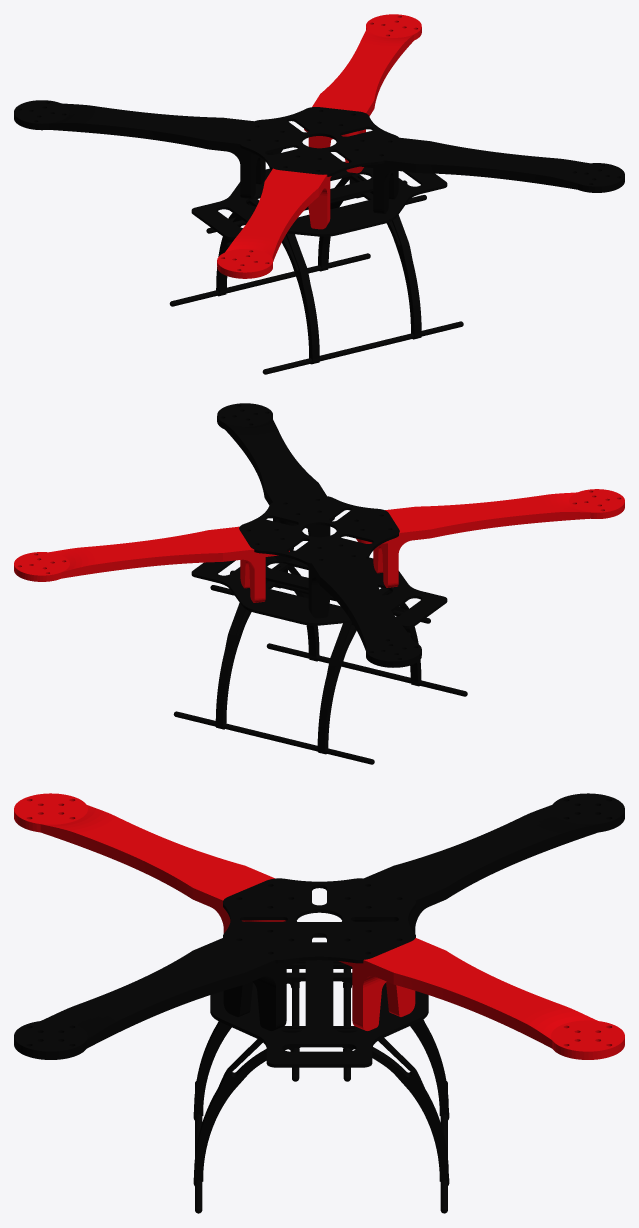
File: drone_base.dae
3 renders of one model, top to bottom at view 1: azimuth 30°, elevation 25°; view 2: azimuth 150°, elevation 25°; view 3: azimuth 270°, elevation 25°, orthographic. The views are drawn at different scales.
Parts seen in each view (by area): view 1: arm_fr, arm_bl, Top, Landing_Gear, arm_fl, bottom, armx_br; view 2: armx_br, arm_fl, Top, Landing_Gear, arm_bl, bottom, arm_fr; view 3: arm_fr, armx_br, Top, arm_bl, arm_fl, Landing_Gear, bottom.
Boxes of the visible parts, x1,y1,x2,y2 form: arm_fr: [349, 137, 624, 213]; arm_bl: [14, 100, 282, 198]; Top: [239, 107, 399, 176]; Landing_Gear: [169, 173, 463, 374]; arm_fl: [217, 168, 331, 278]; bottom: [191, 161, 447, 239]; armx_br: [304, 14, 421, 173]; armx_br: [14, 526, 289, 602]; arm_fl: [356, 489, 624, 587]; Top: [239, 496, 399, 565]; Landing_Gear: [173, 562, 467, 764]; arm_bl: [307, 557, 421, 667]; bottom: [191, 550, 447, 628]; arm_fr: [217, 403, 334, 562]; arm_fr: [14, 938, 299, 1059]; armx_br: [339, 938, 624, 1059]; Top: [223, 878, 415, 963]; arm_bl: [353, 793, 624, 933]; arm_fl: [14, 793, 285, 933]; Landing_Gear: [193, 960, 449, 1213]; bottom: [210, 922, 428, 1067].
Bounding box in the file's own units: 0.33 × 0.33 × 0.139.
